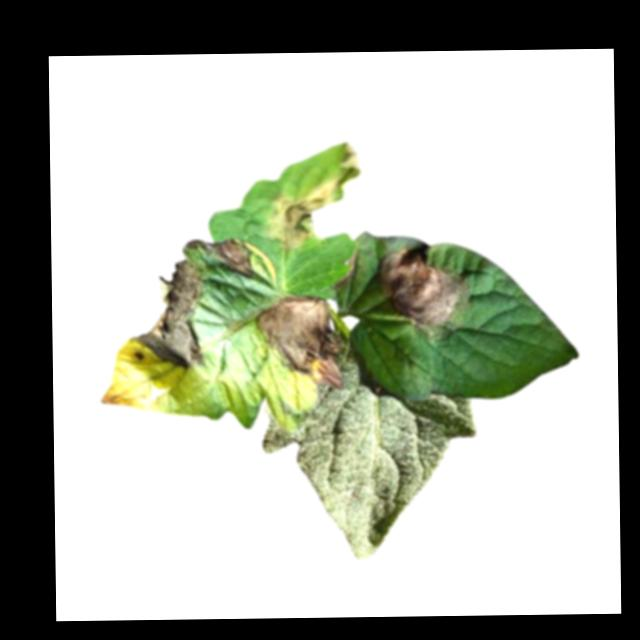Late_blight: (263, 140, 363, 254), (371, 246, 468, 342), (127, 259, 204, 373), (250, 296, 340, 390), (184, 236, 253, 281), (333, 252, 358, 292)
